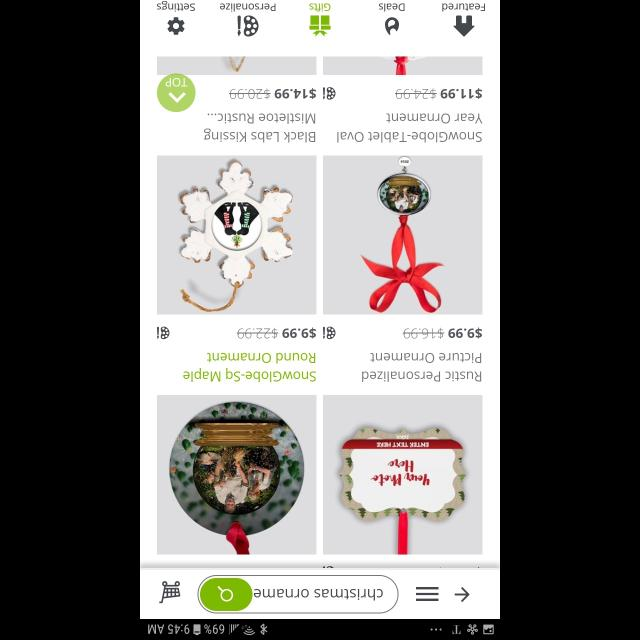icon: (200, 578, 252, 610), (160, 580, 180, 604), (454, 16, 474, 36), (310, 16, 330, 36), (238, 16, 258, 36), (416, 586, 438, 602), (167, 17, 185, 35), (454, 586, 470, 602), (385, 17, 399, 35), (322, 86, 336, 100), (322, 326, 336, 339), (156, 326, 170, 338)
image: (322, 394, 482, 554), (158, 394, 316, 554), (322, 156, 482, 314), (158, 156, 316, 314), (322, 57, 482, 75), (158, 57, 316, 75), (157, 73, 195, 111)
input: (198, 574, 398, 614)
text: (336, 113, 482, 143), (184, 353, 316, 383), (362, 353, 482, 383), (204, 114, 316, 142), (254, 588, 382, 600), (228, 88, 316, 100), (394, 88, 482, 100), (402, 327, 482, 339), (237, 327, 316, 339), (157, 0, 195, 12), (220, 4, 276, 12), (442, 4, 484, 12), (378, 3, 404, 11), (310, 4, 330, 12)
uppertaskbar: (140, 618, 500, 640)
